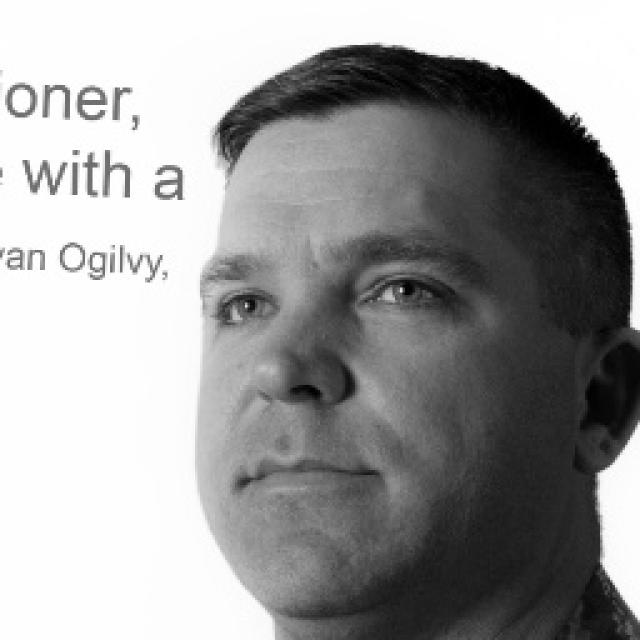no-glasses: (197, 268, 476, 354)
